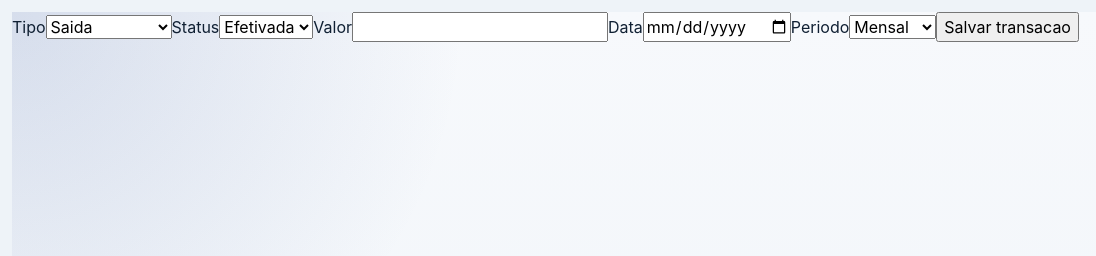
Scenario: transaction form validation › bloqueia envio invalido e exibe mensagens por campo
This screenshot has width=1096, height=256.
Clear the number field labelled "Valor" at (480, 27), box [352, 12, 608, 42]
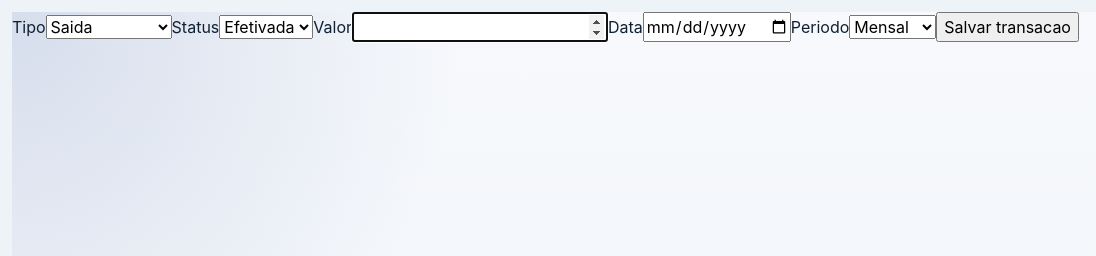
Click the button "Salvar transacao" at (1008, 27), box [936, 12, 1079, 42]
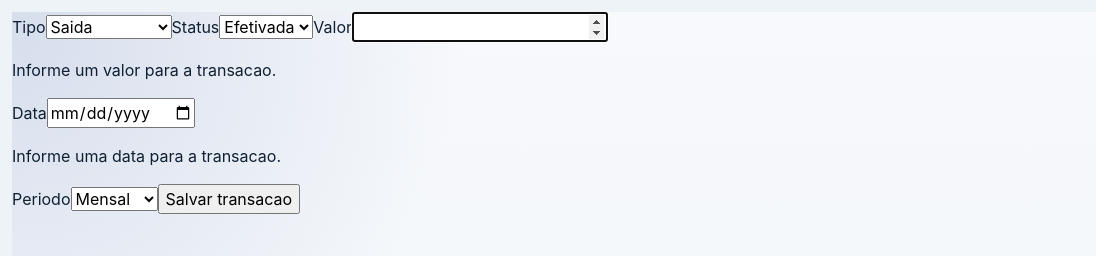
Expected: the text "Informe um valor para a transacao." is shown, [12, 60, 276, 80]
Expected: the text "Informe uma data para a transacao." is shown, [12, 146, 281, 166]
